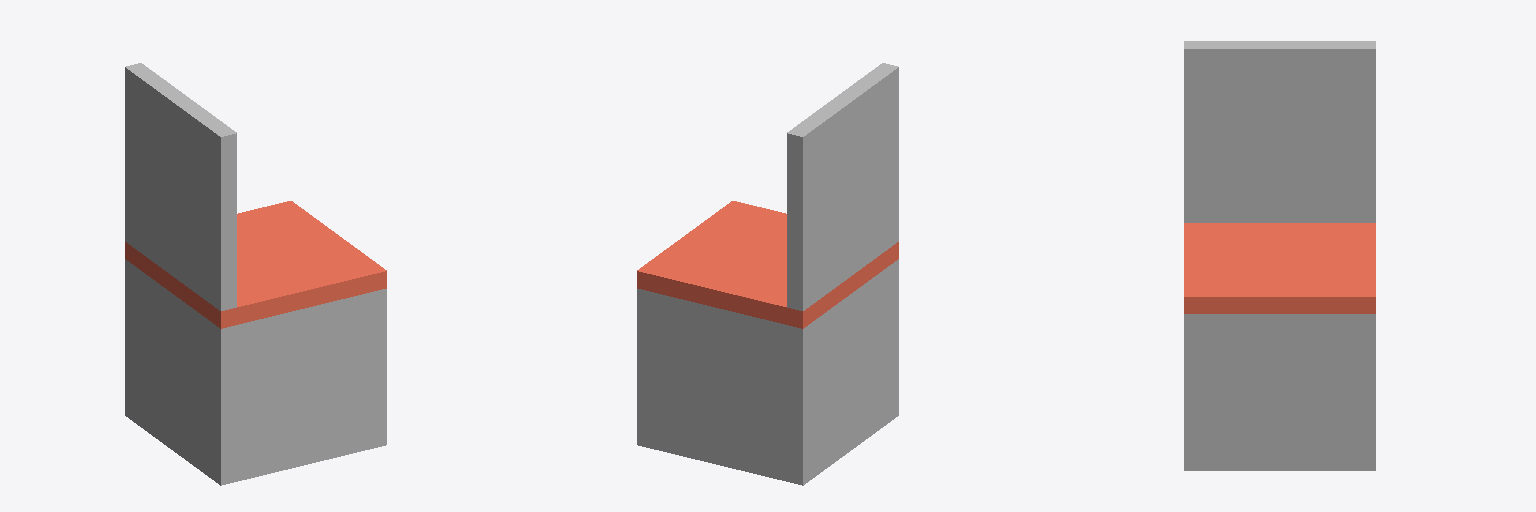
Rendered from tiles_floor_wall_door.obj.
3 renders of one model, left to right at view 1: azimuth 30°, elevation 25°; view 2: azimuth 150°, elevation 25°; view 3: azimuth 270°, elevation 25°, orthographic.
Visible parts, largest first — view 1: Floor_Wall_Door_Cube.018; view 2: Floor_Wall_Door_Cube.018; view 3: Floor_Wall_Door_Cube.018.
Part boxes in pixels (bbox=[...]): Floor_Wall_Door_Cube.018: bbox=[125, 63, 386, 485]; Floor_Wall_Door_Cube.018: bbox=[637, 63, 898, 485]; Floor_Wall_Door_Cube.018: bbox=[1184, 41, 1375, 470].
Size of the model in its own units: 2 by 4 by 2.